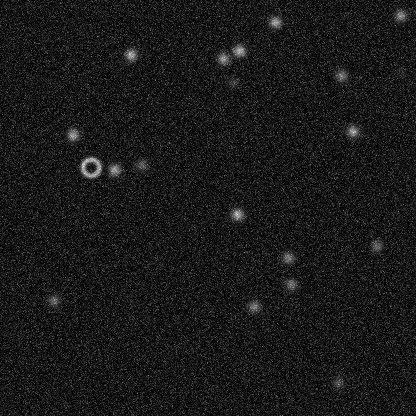Ring: (78, 155, 102, 179)
Spot: (224, 74, 240, 90), (279, 249, 295, 265), (229, 206, 245, 222), (122, 46, 138, 62), (283, 276, 299, 292), (392, 7, 408, 23), (106, 161, 122, 177), (45, 292, 61, 308), (231, 42, 247, 58), (330, 373, 346, 389), (392, 64, 408, 80), (245, 298, 261, 314), (133, 156, 149, 172), (64, 126, 80, 142), (267, 14, 283, 30), (368, 237, 384, 253), (215, 50, 231, 66), (344, 123, 360, 139), (333, 67, 349, 83)
